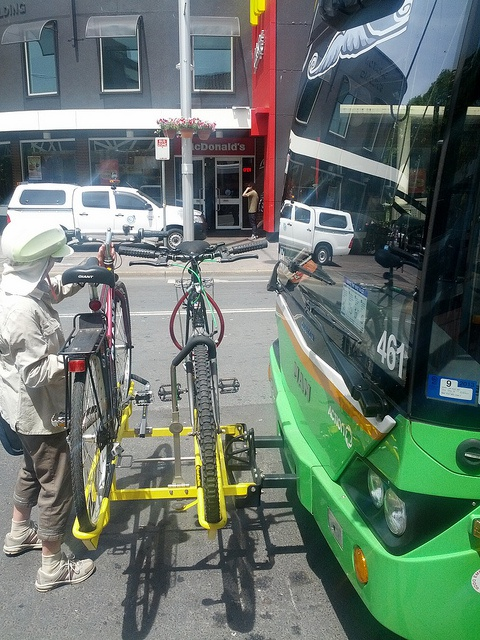non-vehicle: (114, 233, 271, 524), (51, 224, 170, 535)
